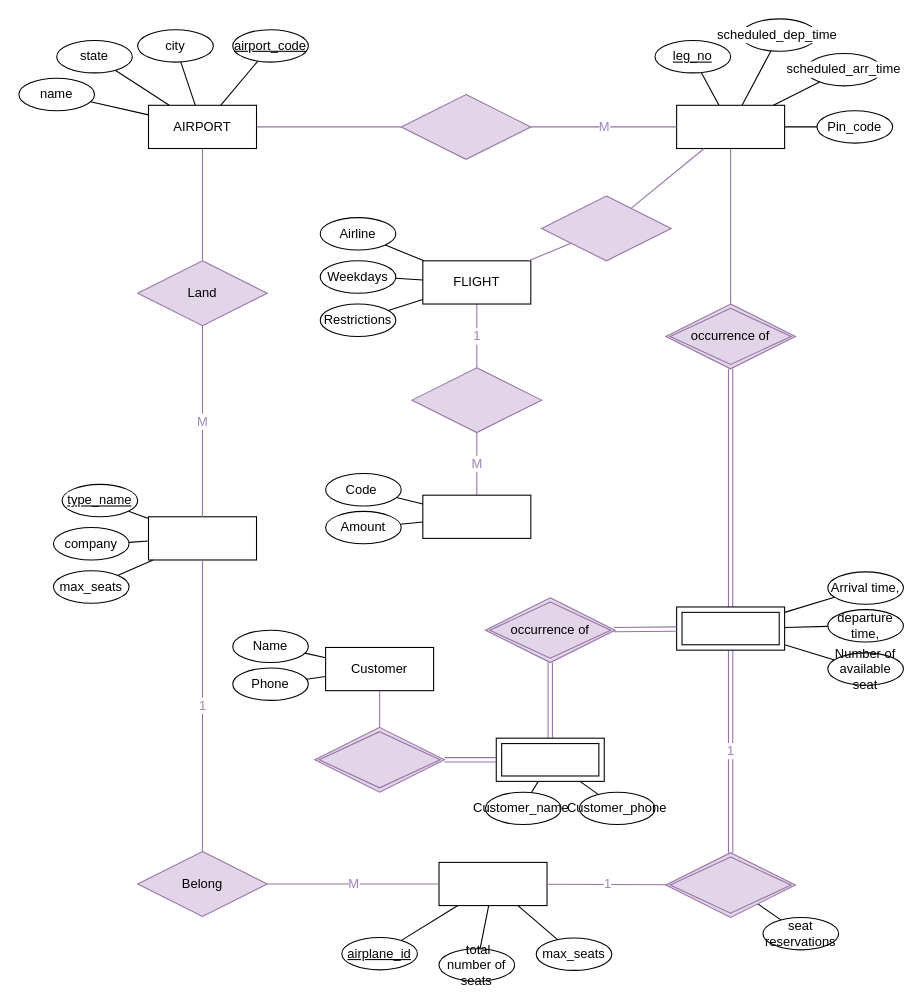
Image size: 922x1007. Some labels were removed from this diagram. Here are the shapes that lost their labels. From the top down, the box of each, then its label:
(400, 93, 531, 159): departure or arrival
(676, 104, 785, 148): FLIGHT LEG
(541, 195, 671, 261): Include
(411, 367, 542, 433): Have
(422, 494, 531, 538): Fare
(147, 516, 256, 560): AIRPLANE TYPE
(676, 606, 785, 650): LEG INSTANCE
(314, 726, 444, 792): Make
(495, 737, 604, 781): RESERVATION
(438, 861, 547, 906): AIRPLANE
(665, 852, 795, 917): assigned/Belong
